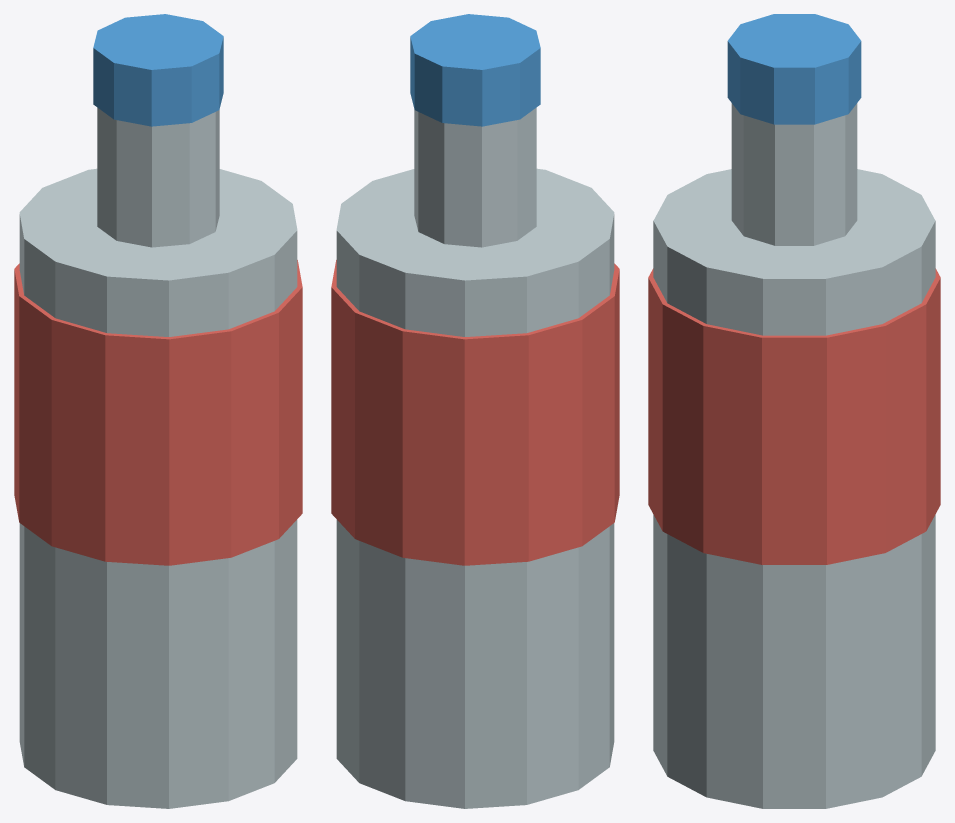
Rendered from dm_plasticbottle.glb.
The picture shows the model from 3 angles, left to right: view 1: azimuth 30°, elevation 25°; view 2: azimuth 150°, elevation 25°; view 3: azimuth 270°, elevation 25°; orthographic projection.
Parts seen in each view (by area): view 1: dm_plasticbottle; view 2: dm_plasticbottle; view 3: dm_plasticbottle.
Part boxes in pixels (x1,y1,x2,y2): dm_plasticbottle: [14, 14, 302, 808]; dm_plasticbottle: [331, 14, 619, 808]; dm_plasticbottle: [648, 14, 940, 808].
Size of the model in its own units: 0.1365 by 0.375 by 0.14.
